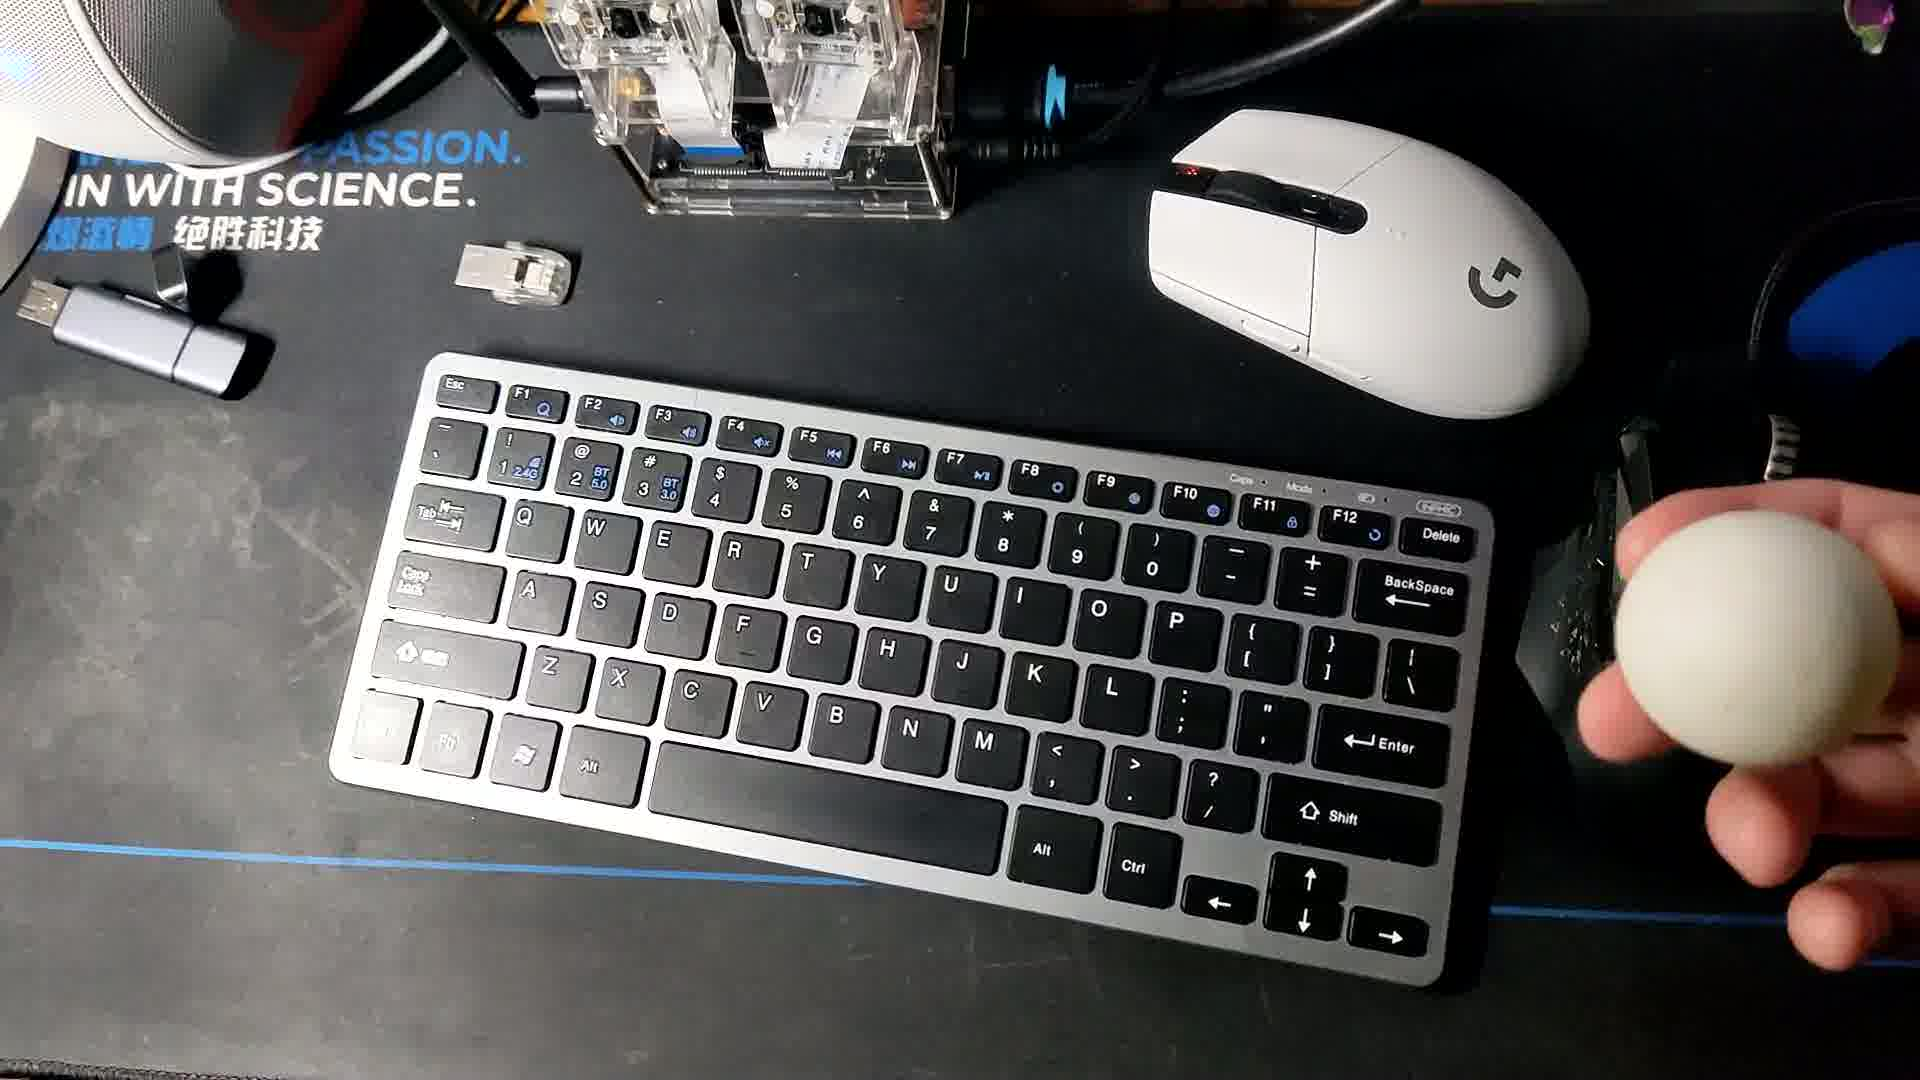Ball: (1619, 505, 1894, 767)
